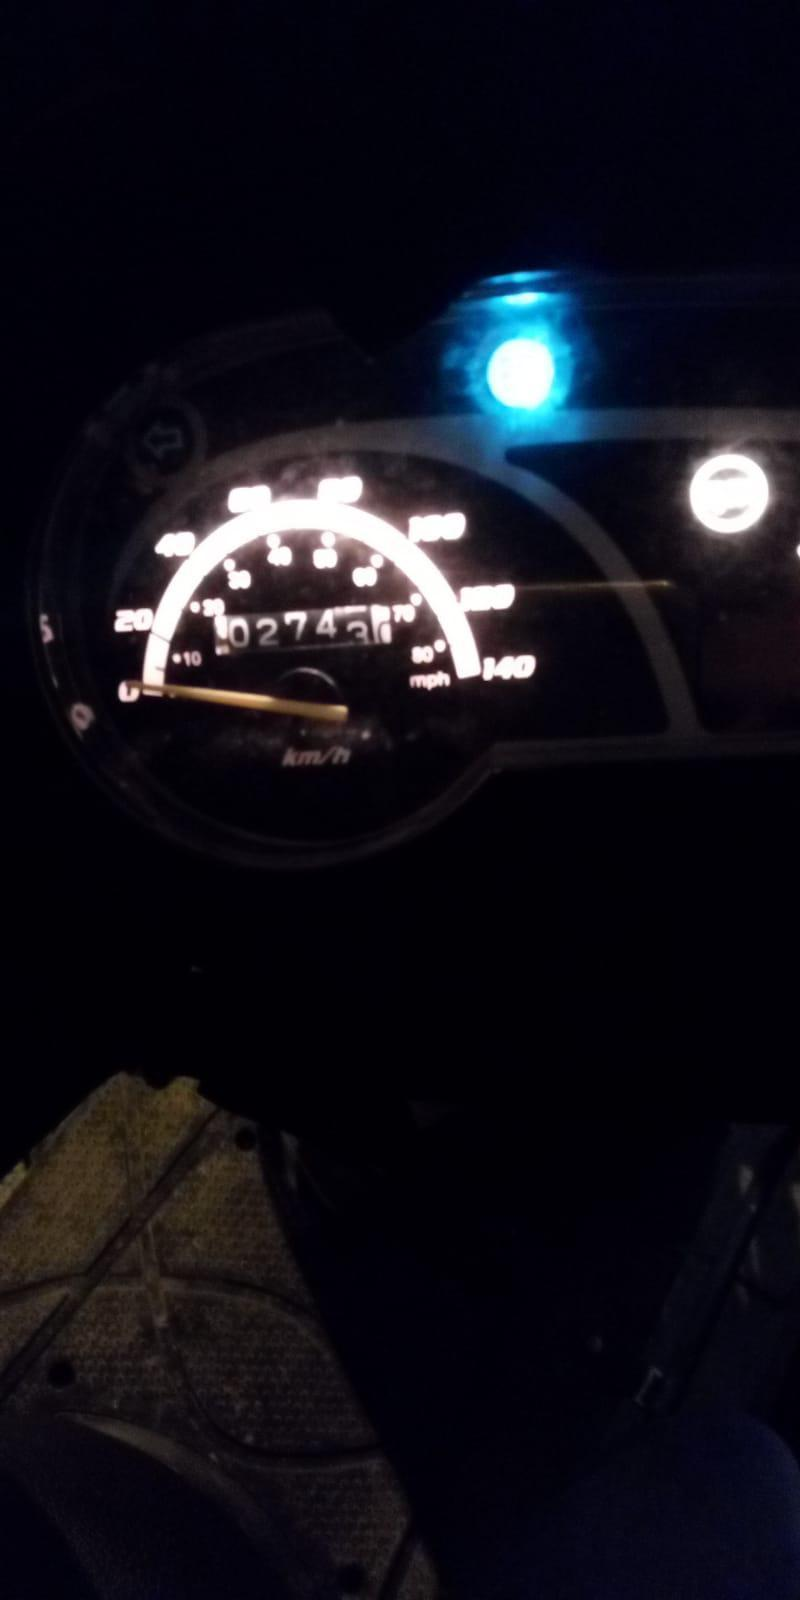0: (227, 614, 251, 649), (377, 615, 394, 650)
2: (255, 614, 279, 651)
3: (345, 618, 370, 649)
4: (315, 607, 341, 642)
7: (282, 609, 308, 644)
odometer: (211, 603, 395, 657)
